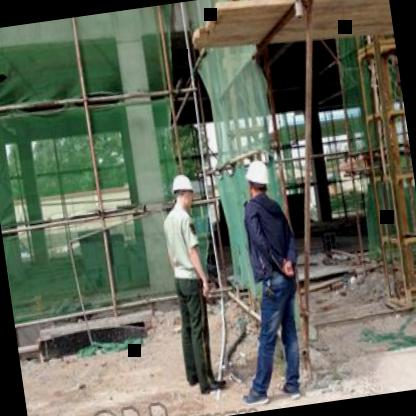helmet: (243, 156, 273, 205), (171, 170, 199, 212)
